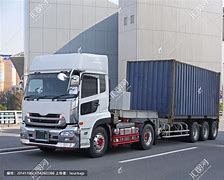bigtruck: (21, 49, 218, 152)
